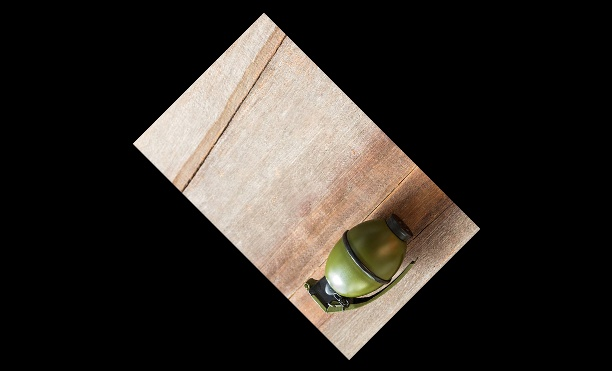e1: (299, 211, 418, 317)
